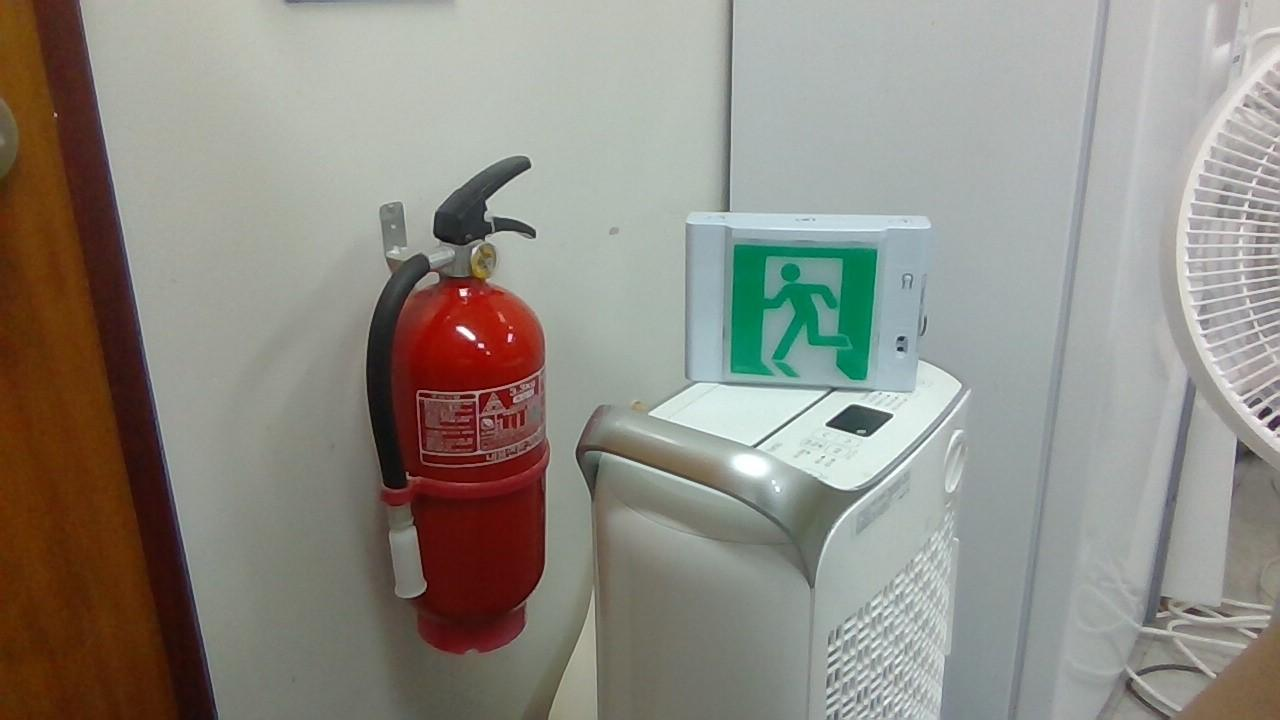emergency_exit: (683, 210, 933, 393)
